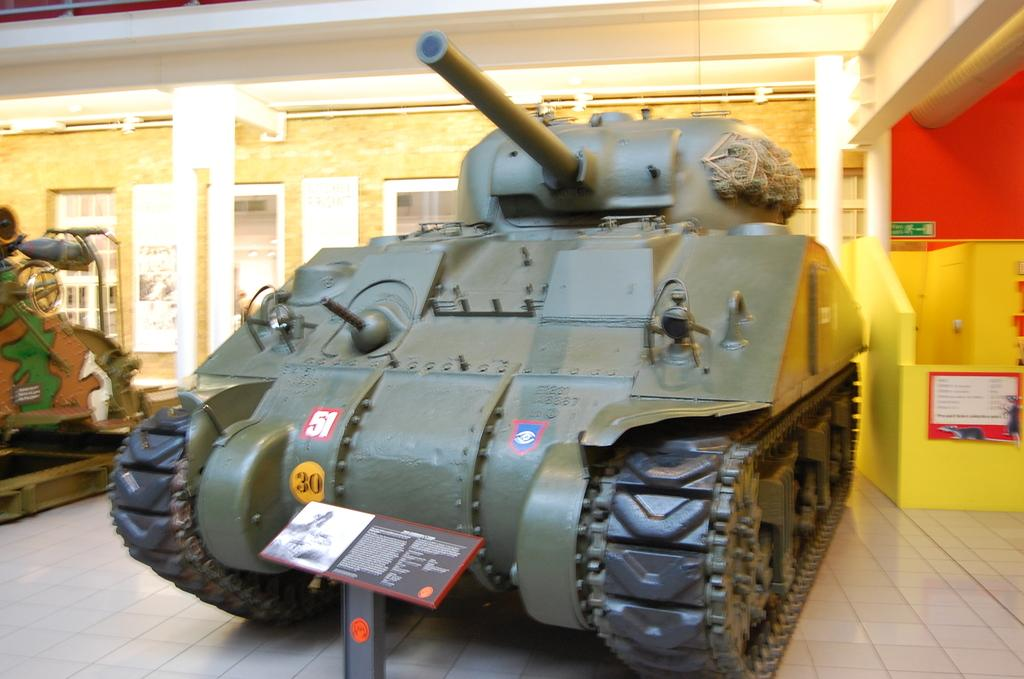Tank: (109, 29, 867, 678)
